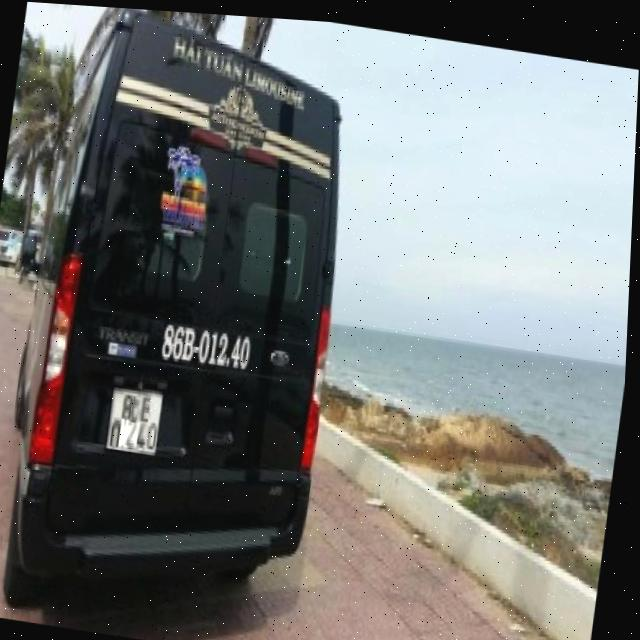car: (0, 32, 381, 640)
plate: (99, 381, 170, 460)
